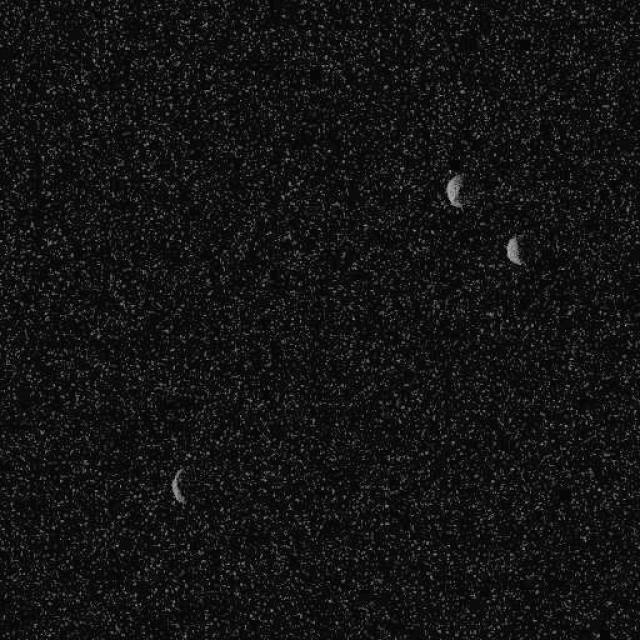D2: (444, 171, 465, 209), (170, 466, 188, 505), (504, 234, 525, 266)
